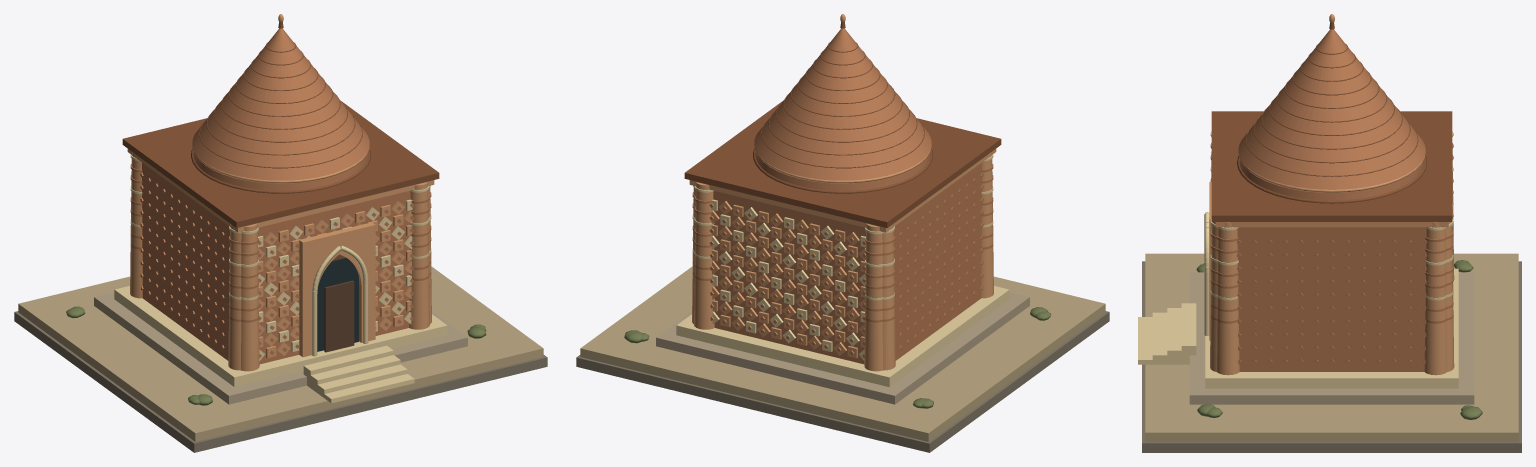
File: aisha-bibi.glb
3 renders of one model, left to right at view 1: azimuth 30°, elevation 25°; view 2: azimuth 150°, elevation 25°; view 3: azimuth 270°, elevation 25°, orthographic. The views are drawn at different scales.
Parts seen in each view (by area): view 1: Terracotta, Steppe earth, Carved terracotta, Carved pale limestone, Terracotta recess, Foundation edging, Stone plinth, Cedar doors, Doorway shadows, Sparse steppe vegetation; view 2: Terracotta, Steppe earth, Carved terracotta, Terracotta recess, Carved pale limestone, Stone plinth, Foundation edging, Sparse steppe vegetation; view 3: Terracotta, Steppe earth, Terracotta recess, Carved terracotta, Carved pale limestone, Stone plinth, Foundation edging, Sparse steppe vegetation.
Part boxes in pixels (x1,y1,x2,y2): Terracotta: [130, 28, 431, 364]; Steppe earth: [18, 266, 543, 441]; Carved terracotta: [127, 14, 434, 371]; Carved pale limestone: [114, 154, 447, 403]; Terracotta recess: [122, 22, 439, 260]; Foundation edging: [14, 311, 547, 452]; Stone plinth: [94, 292, 467, 404]; Cedar doors: [324, 280, 354, 352]; Doorway shadows: [317, 257, 358, 351]; Sparse steppe vegetation: [66, 306, 486, 405]; Terracotta: [692, 28, 993, 364]; Steppe earth: [580, 266, 1105, 441]; Carved terracotta: [689, 14, 996, 371]; Terracotta recess: [684, 22, 1001, 227]; Carved pale limestone: [676, 154, 1009, 387]; Stone plinth: [656, 292, 1029, 404]; Foundation edging: [576, 311, 1109, 452]; Sparse steppe vegetation: [624, 307, 1051, 408]; Terracotta: [1210, 29, 1453, 371]; Steppe earth: [1145, 253, 1518, 441]; Terracotta recess: [1211, 23, 1452, 221]; Carved terracotta: [1209, 14, 1454, 375]; Carved pale limestone: [1138, 131, 1458, 388]; Stone plinth: [1189, 272, 1474, 404]; Foundation edging: [1142, 261, 1521, 452]; Sparse steppe vegetation: [1196, 260, 1482, 419].
Size of the model in its own units: 6.8 by 6.06 by 6.07.
